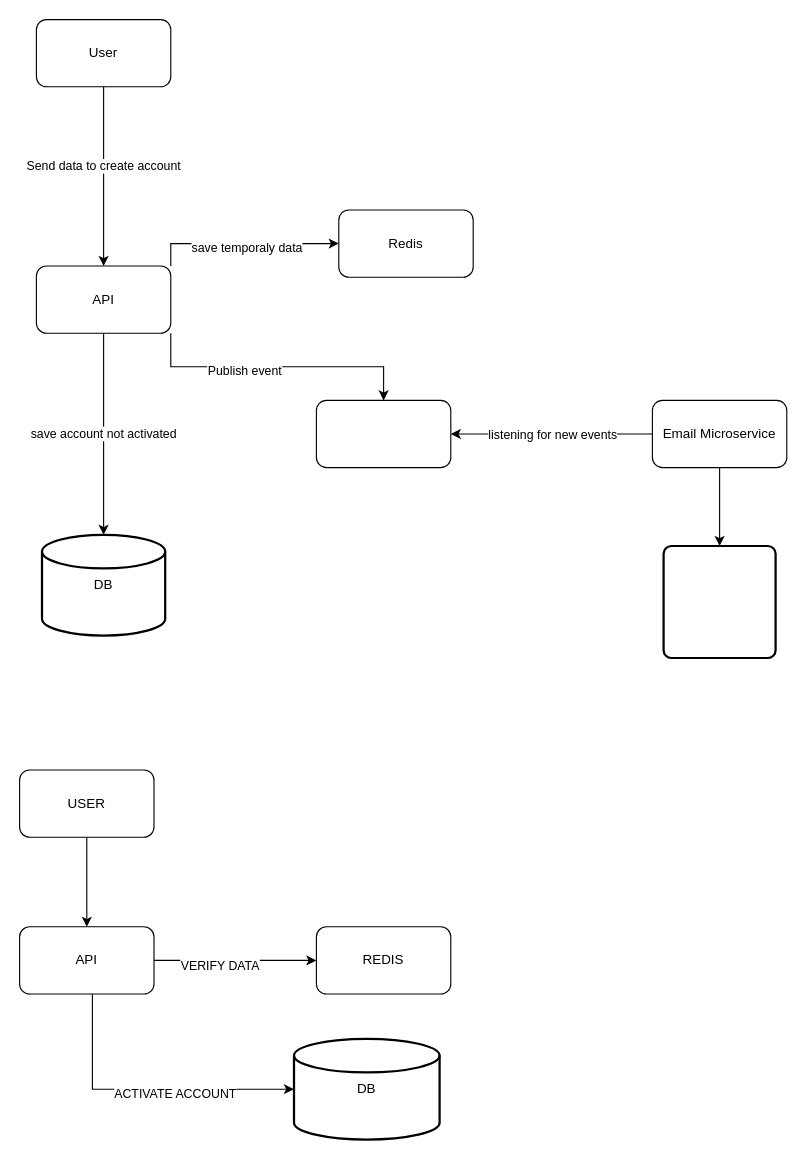
Image size: 806x1160. Some labels were removed from this diagram. The shapes that lost their labels are listed below. From the top down, each one's centre as x and y in pixels, then its label:
At (x=383, y=433): "Apache KAFKA".
At (x=719, y=601): "Send Email with activation Link".
